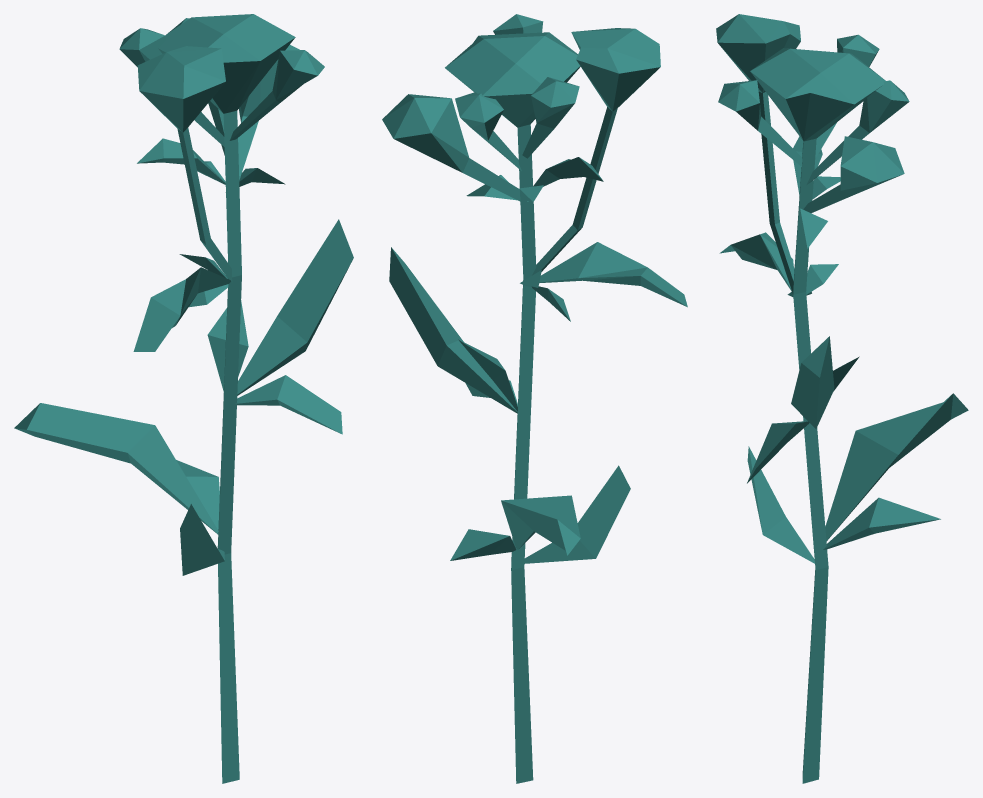
The model's file is SM_Flower_Yarrow_Single_Mature_B.fbx.
The picture shows the model from 3 angles, left to right: view 1: azimuth 30°, elevation 25°; view 2: azimuth 150°, elevation 25°; view 3: azimuth 270°, elevation 25°; orthographic projection. The views are drawn at different scales.
Visible parts, largest first — view 1: flower-yarrow-single-mature-b; view 2: flower-yarrow-single-mature-b; view 3: flower-yarrow-single-mature-b.
Part boxes in pixels (x1,y1,x2,y2): flower-yarrow-single-mature-b: [14, 14, 353, 783]; flower-yarrow-single-mature-b: [382, 14, 687, 783]; flower-yarrow-single-mature-b: [716, 14, 968, 783].
Size of the model in its own units: 0.2833 by 0.7878 by 0.2478.
